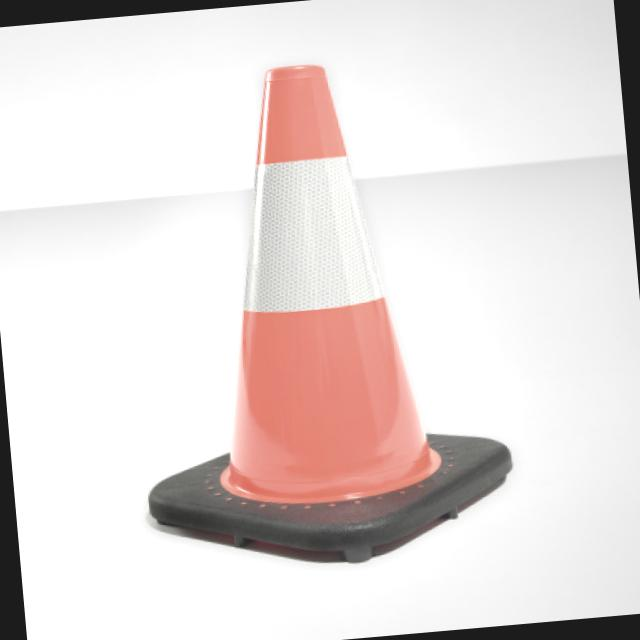cone: (102, 27, 529, 586)
